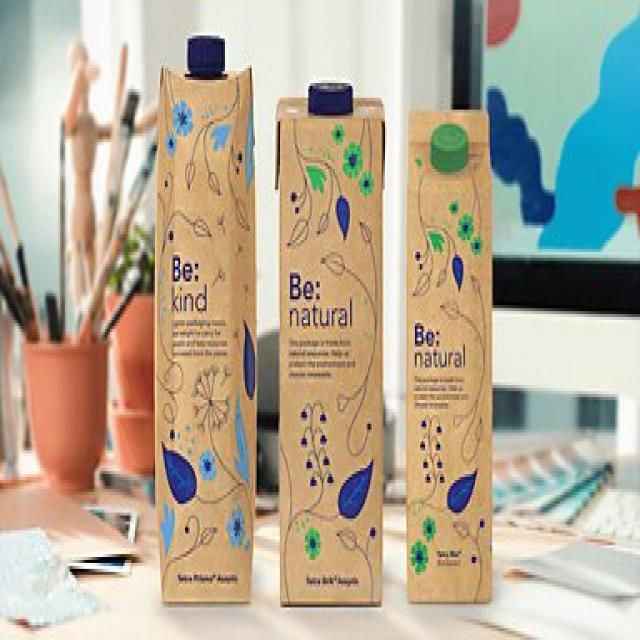Carton: (153, 36, 254, 603)
